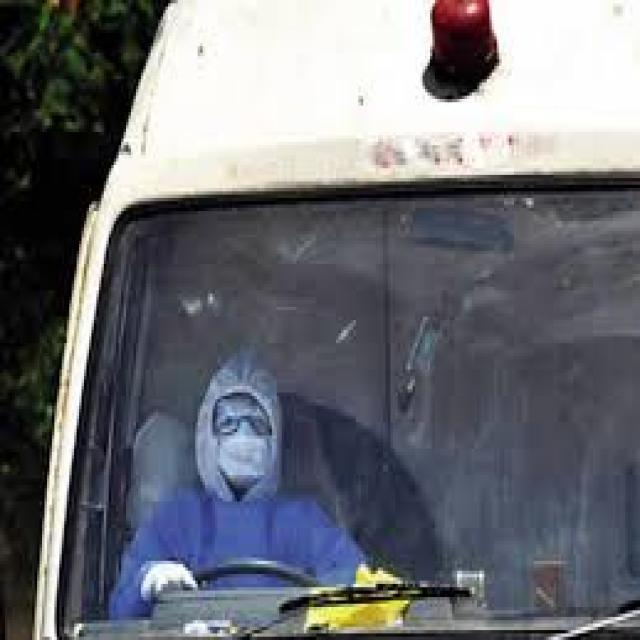ambulance: (39, 0, 639, 639)
